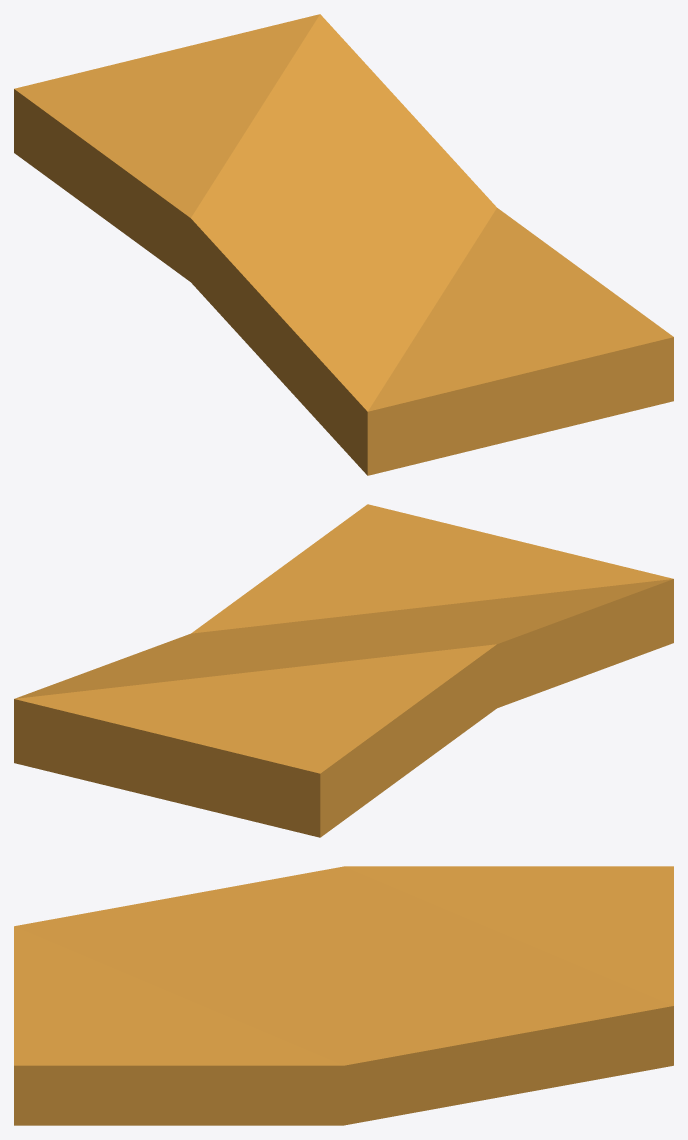
Rendered from tile-hill-curve.glb.
3 renders of one model, top to bottom at view 1: azimuth 30°, elevation 25°; view 2: azimuth 150°, elevation 25°; view 3: azimuth 270°, elevation 25°, orthographic. The views are drawn at different scales.
Parts seen in each view (by area): view 1: tile-hill-curve; view 2: tile-hill-curve; view 3: tile-hill-curve.
Boxes of the visible parts, <box> form: tile-hill-curve: <box>14,14,673,475</box>; tile-hill-curve: <box>14,504,673,837</box>; tile-hill-curve: <box>14,866,673,1125</box>.
Bounding box in the file's own units: 30 × 12 × 60.
